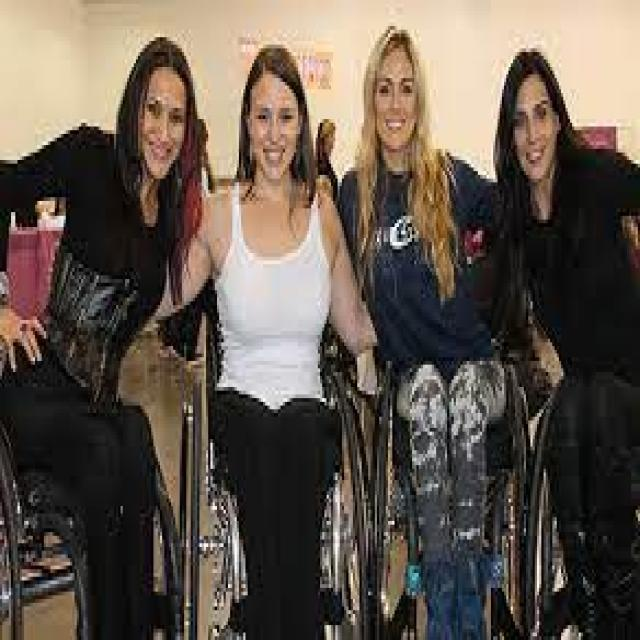wheelchairs: (155, 174, 396, 640), (337, 230, 541, 640), (0, 208, 188, 639), (498, 277, 640, 640)
